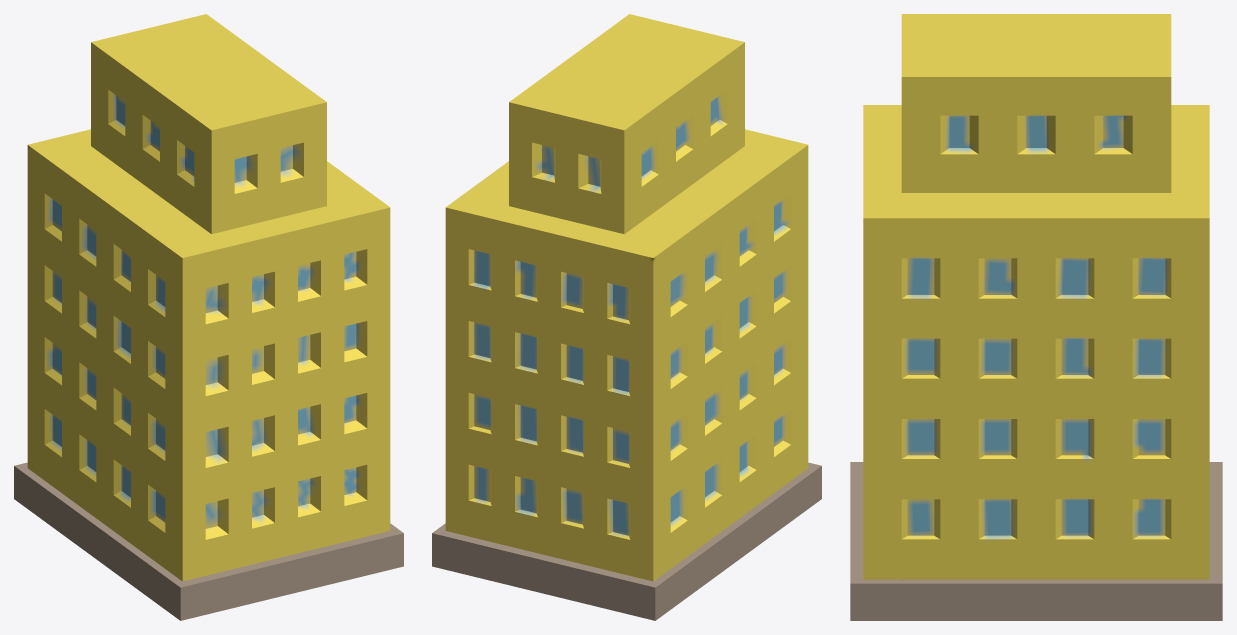
The model's file is fbCityHomeWide 2.fbx.
The picture shows the model from 3 angles, left to right: view 1: azimuth 30°, elevation 25°; view 2: azimuth 150°, elevation 25°; view 3: azimuth 270°, elevation 25°; orthographic projection. The views are drawn at different scales.
Visible parts, largest first — view 1: Cube.389; view 2: Cube.389; view 3: Cube.389.
Boxes of the visible parts, left/top/right/bottom form: Cube.389: left=14, top=14, right=403, bottom=620; Cube.389: left=432, top=14, right=821, bottom=620; Cube.389: left=850, top=14, right=1222, bottom=620.
Size of the model in its own units: 526 by 1037 by 680.
